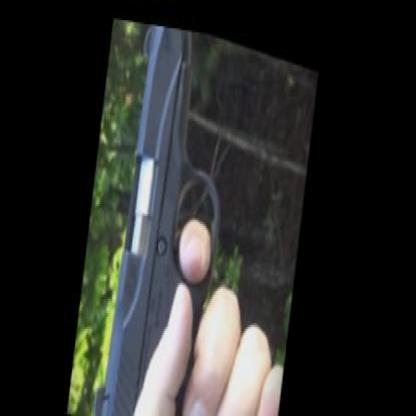pistol: (102, 16, 318, 410)
